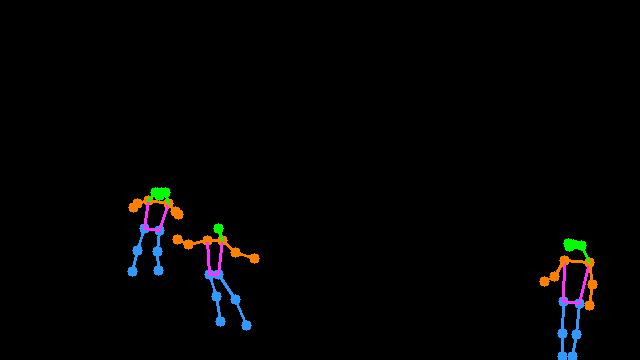normal: (529, 224, 601, 360), (116, 171, 187, 280)
